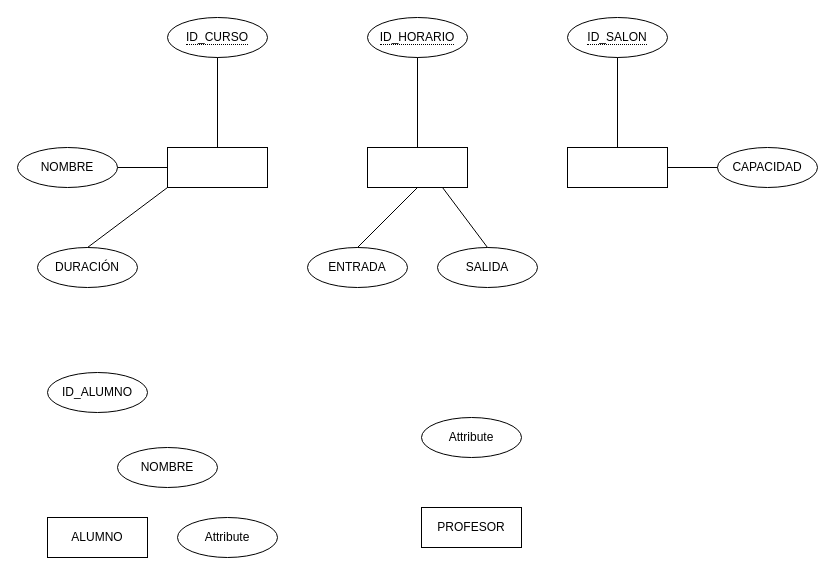
The diagram is 835 pixels wide and 575 high, and some of its shapes have lost their labels. The shapes that lost their labels are listed below. From the top down, each one's centre as x and y in pixels, then its label:
At point (217, 167): "CURSO".
At point (417, 167): "HORARIO".
At point (617, 167): "SALON".
